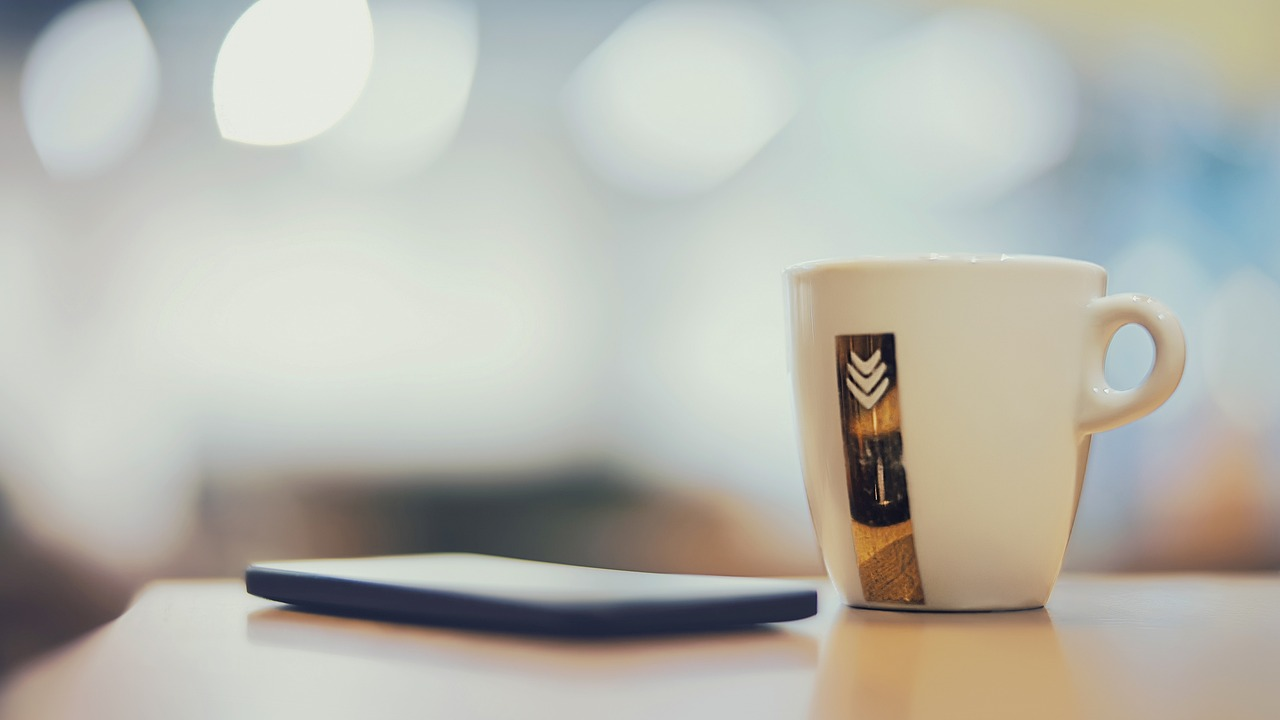mug: (766, 240, 1197, 635)
